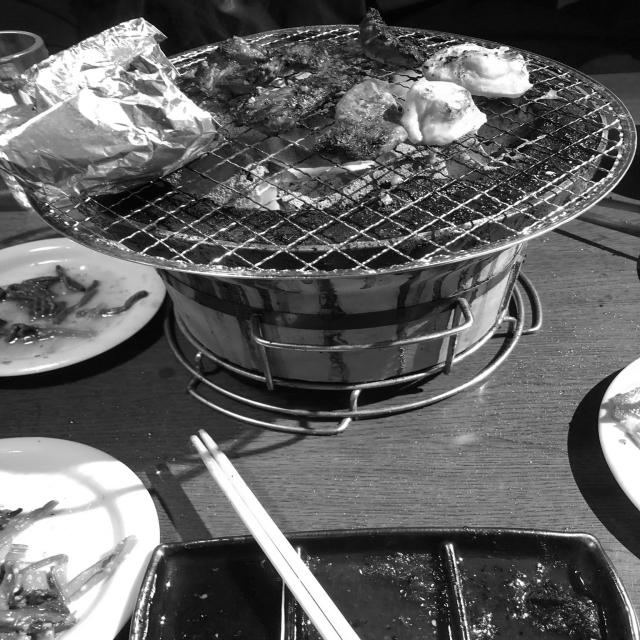overcooked beef,: (225, 76, 342, 136), (231, 37, 338, 92), (303, 121, 422, 169), (350, 6, 428, 74)
